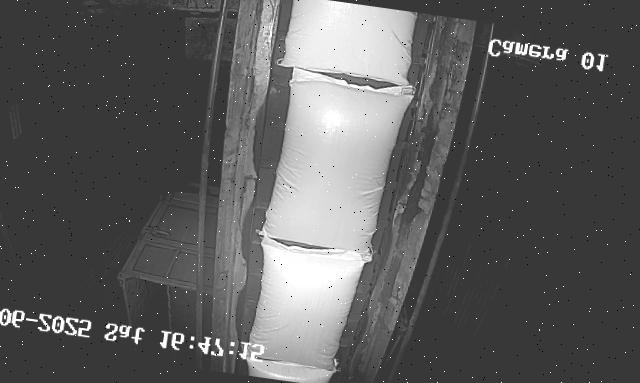bag: (260, 65, 416, 255), (242, 235, 370, 370), (276, 0, 417, 82), (240, 351, 335, 383)
